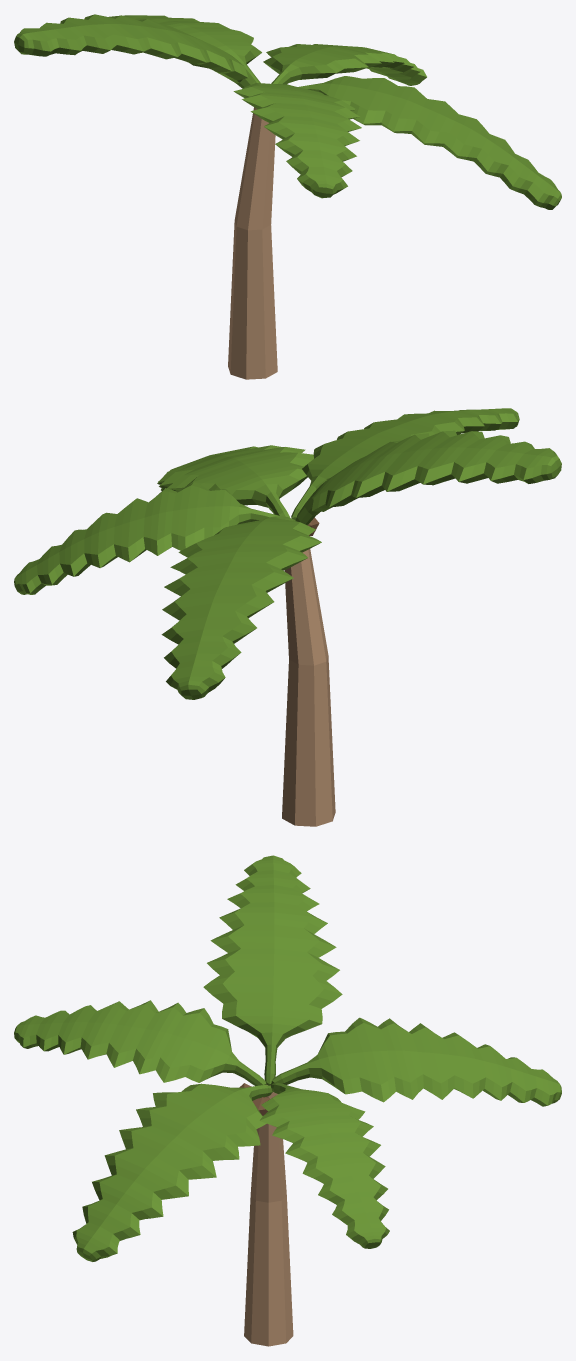
File: palm.glb
3 renders of one model, top to bottom at view 1: azimuth 30°, elevation 25°; view 2: azimuth 150°, elevation 25°; view 3: azimuth 270°, elevation 25°, orthographic. The views are drawn at different scales.
Visible parts, largest first — view 1: Palm; view 2: Palm; view 3: Palm.
Part boxes in pixels (x1,y1,x2,y2): Palm: (14,14,561,379); Palm: (14,408,561,826); Palm: (14,855,561,1346).
Bounding box in the file's own units: 6.77 × 5.56 × 7.39.
Materials: 1 (1 with a texture image).
